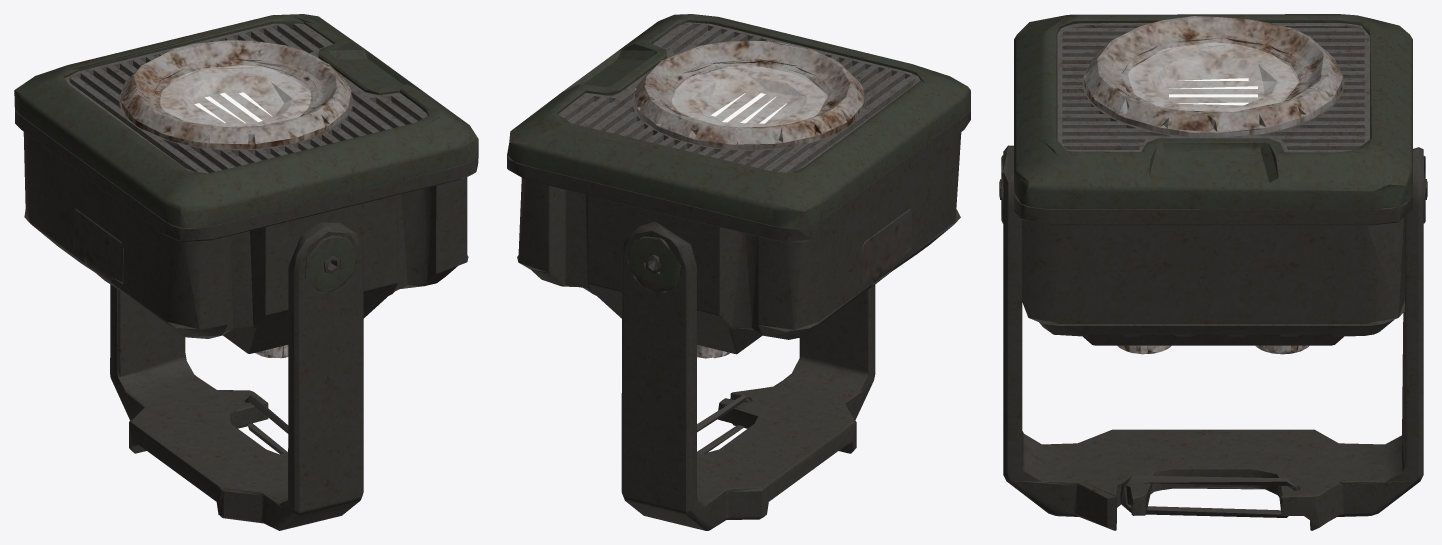
The model's file is night_work_light.glb.
3 views of the same model, side by side, from view 1: azimuth 30°, elevation 25°; view 2: azimuth 150°, elevation 25°; view 3: azimuth 270°, elevation 25° (orthographic). The views are drawn at different scales.
Visible parts, largest first — view 1: night_work_light; view 2: night_work_light; view 3: night_work_light.
Part boxes in pixels (x1,y1,x2,y2): night_work_light: (14,14,478,530); night_work_light: (507,14,970,530); night_work_light: (999,14,1427,530).
Size of the model in its own units: 0.1131 by 0.1358 by 0.1214.
8 materials, 6 textured.
